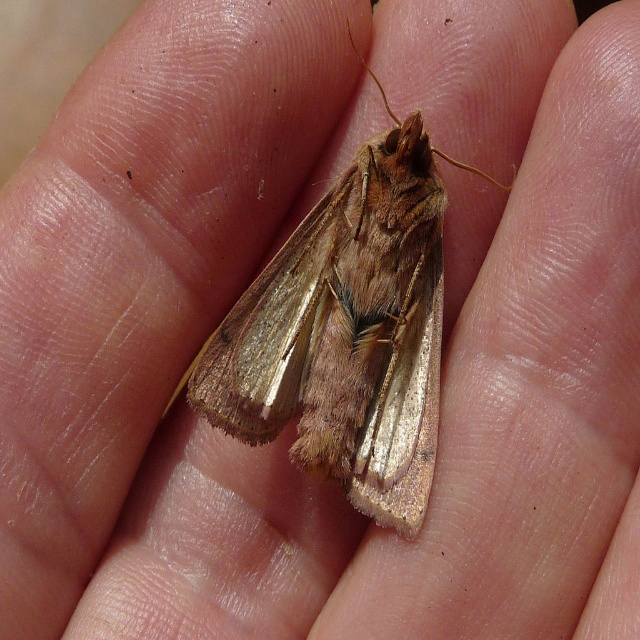Moths and butterflies: (185, 18, 518, 545)
